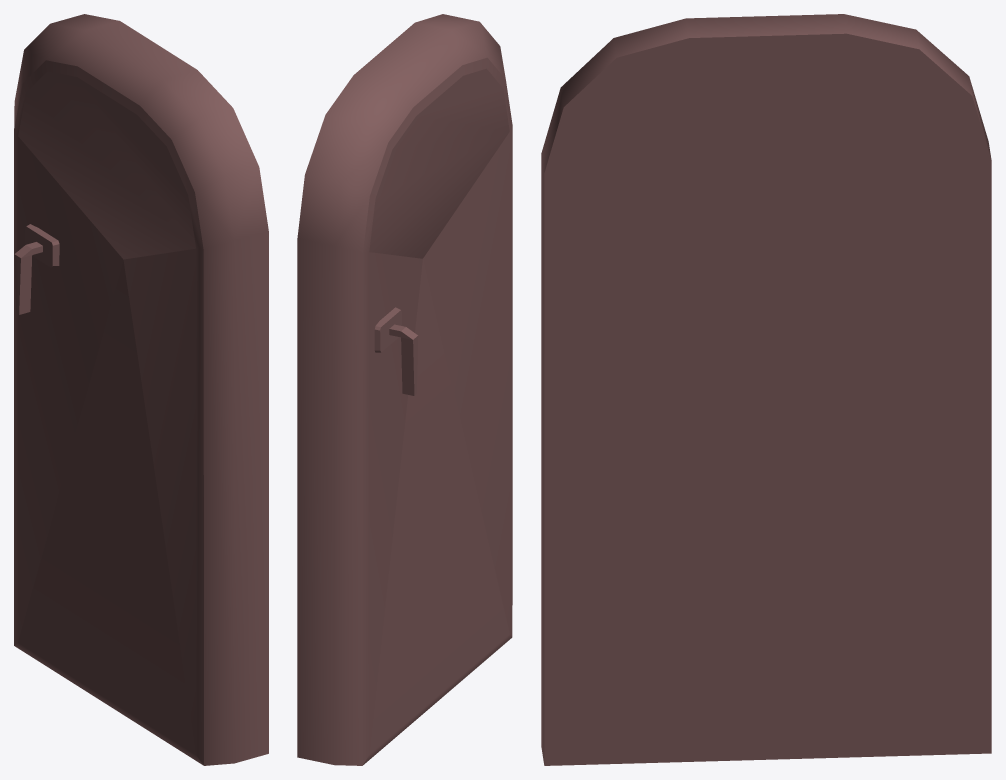
The picture shows the model from 3 angles, left to right: view 1: azimuth 30°, elevation 25°; view 2: azimuth 150°, elevation 25°; view 3: azimuth 270°, elevation 25°; orthographic projection. The views are drawn at different scales.
Parts seen in each view (by area): view 1: SM_H4_D; view 2: SM_H4_D; view 3: SM_H4_D.
Part boxes in pixels (left/top/right/bottom): SM_H4_D: left=14, top=14, right=268, bottom=765; SM_H4_D: left=297, top=14, right=512, bottom=765; SM_H4_D: left=541, top=14, right=991, bottom=765.
Bounding box in the file's own units: 38.63 × 136 × 244.
1 material, 1 textured.
